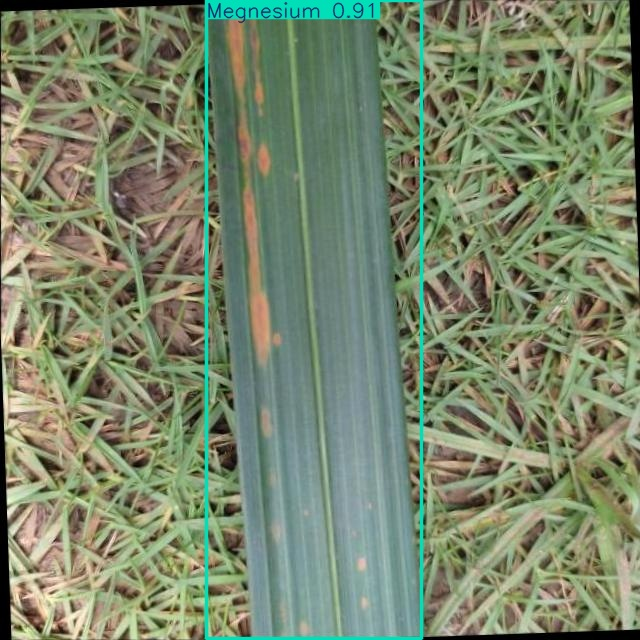Megnesium: (206, 1, 422, 639)
